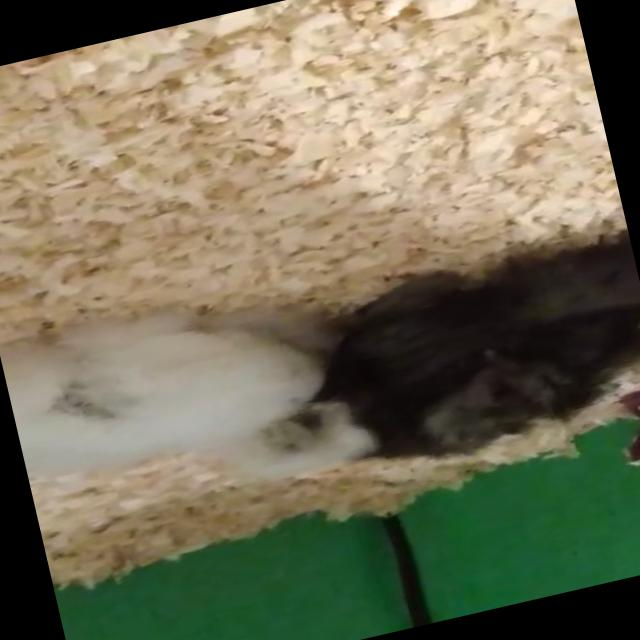allo preening: (1, 218, 640, 561)
